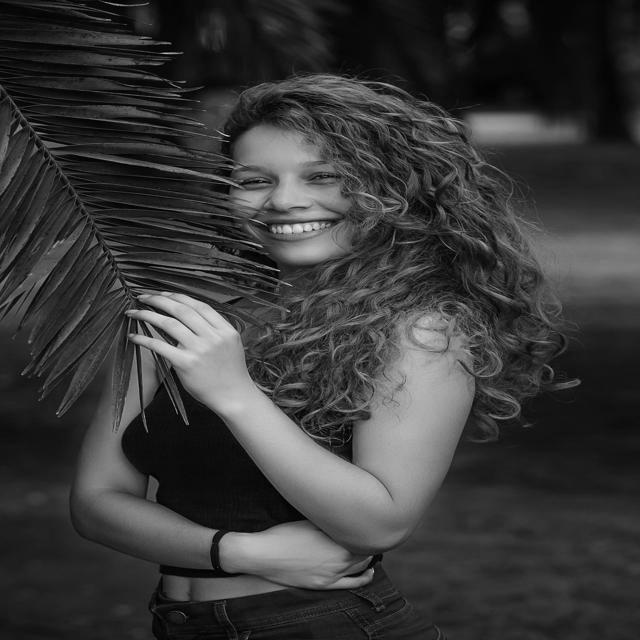Happiness: (222, 115, 366, 268)
